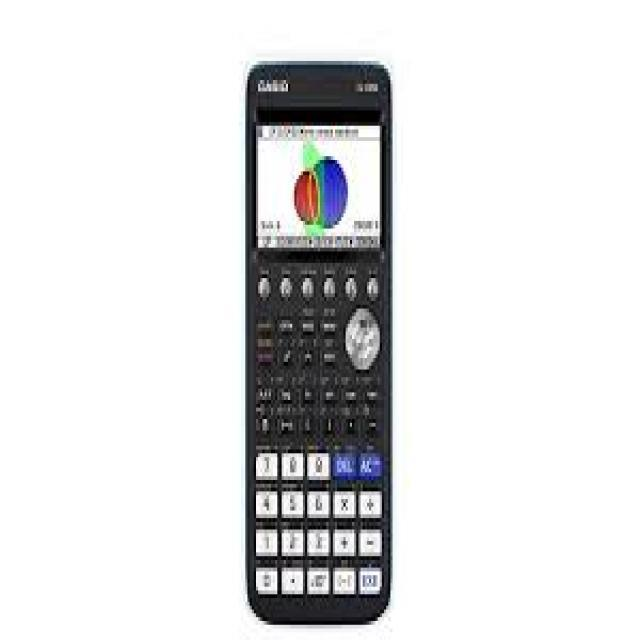Calculator: (241, 57, 396, 630)
